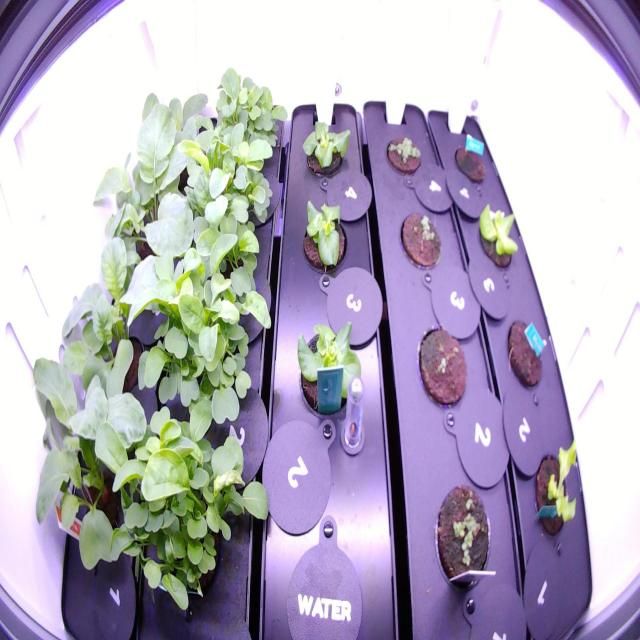germination: (425, 477, 494, 597), (410, 318, 472, 415), (394, 204, 445, 281), (380, 128, 426, 181)
pod: (502, 312, 545, 398), (446, 131, 492, 189)
young: (289, 310, 366, 433), (524, 428, 585, 552), (296, 194, 353, 286), (294, 112, 354, 182), (469, 201, 522, 276)
